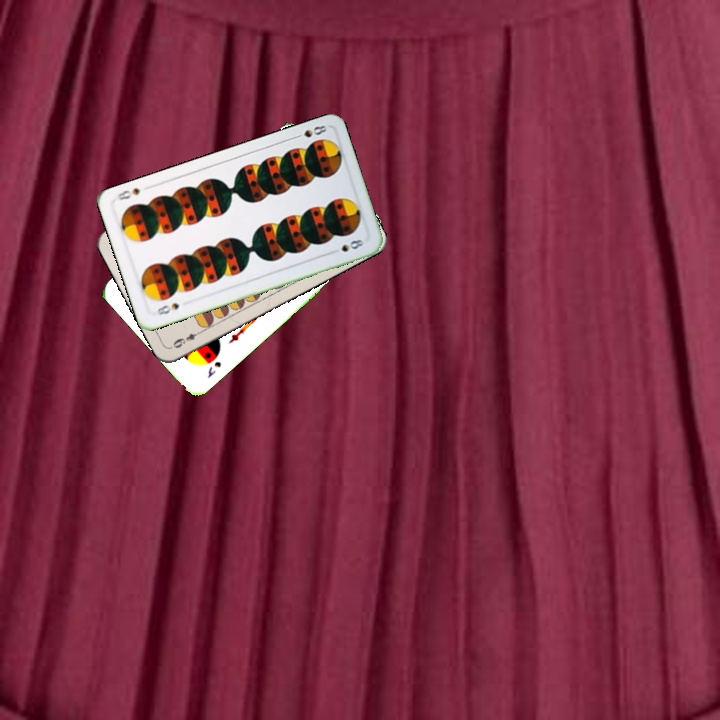E9: (169, 326, 205, 351)
S8: (289, 121, 329, 141), (153, 299, 182, 318)
SK: (203, 357, 224, 381)
